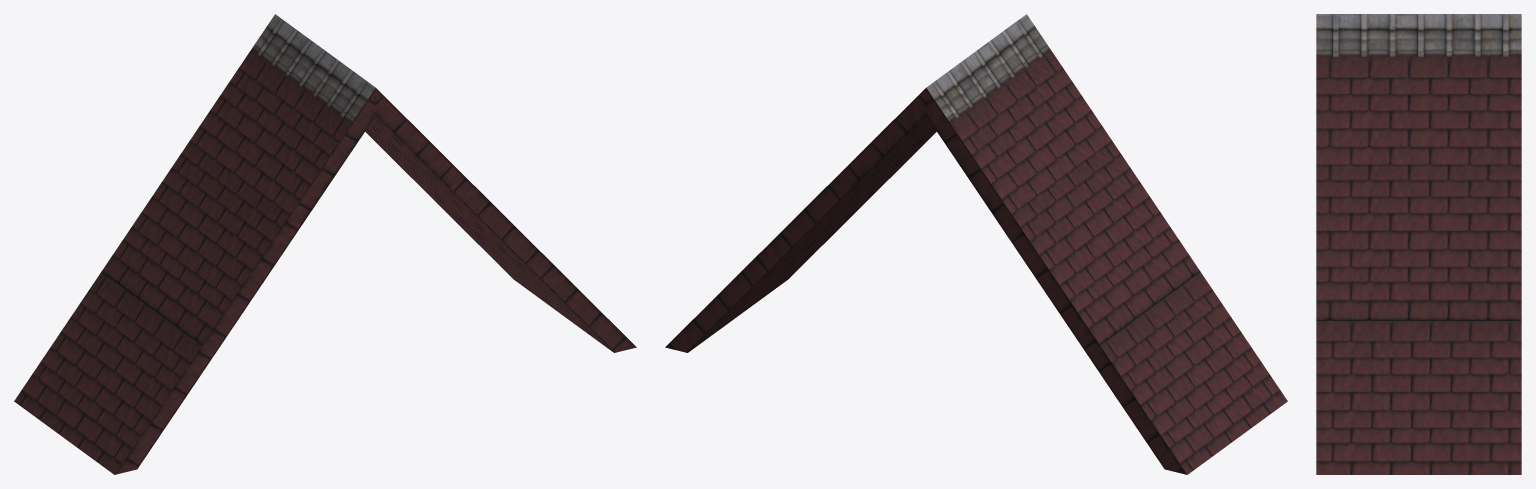
Rendered from rooftop_01.fbx.
3 views of the same model, side by side, from view 1: azimuth 30°, elevation 25°; view 2: azimuth 150°, elevation 25°; view 3: azimuth 270°, elevation 25° (orthographic). The views are drawn at different scales.
Visible parts, largest first — view 1: rooftop_01; view 2: rooftop_01; view 3: rooftop_01.
Part boxes in pixels (bbox=[...]): rooftop_01: bbox=[14, 14, 636, 474]; rooftop_01: bbox=[665, 14, 1287, 474]; rooftop_01: bbox=[1316, 14, 1521, 474].
Size of the model in its own units: 2400 by 1421 by 800.
